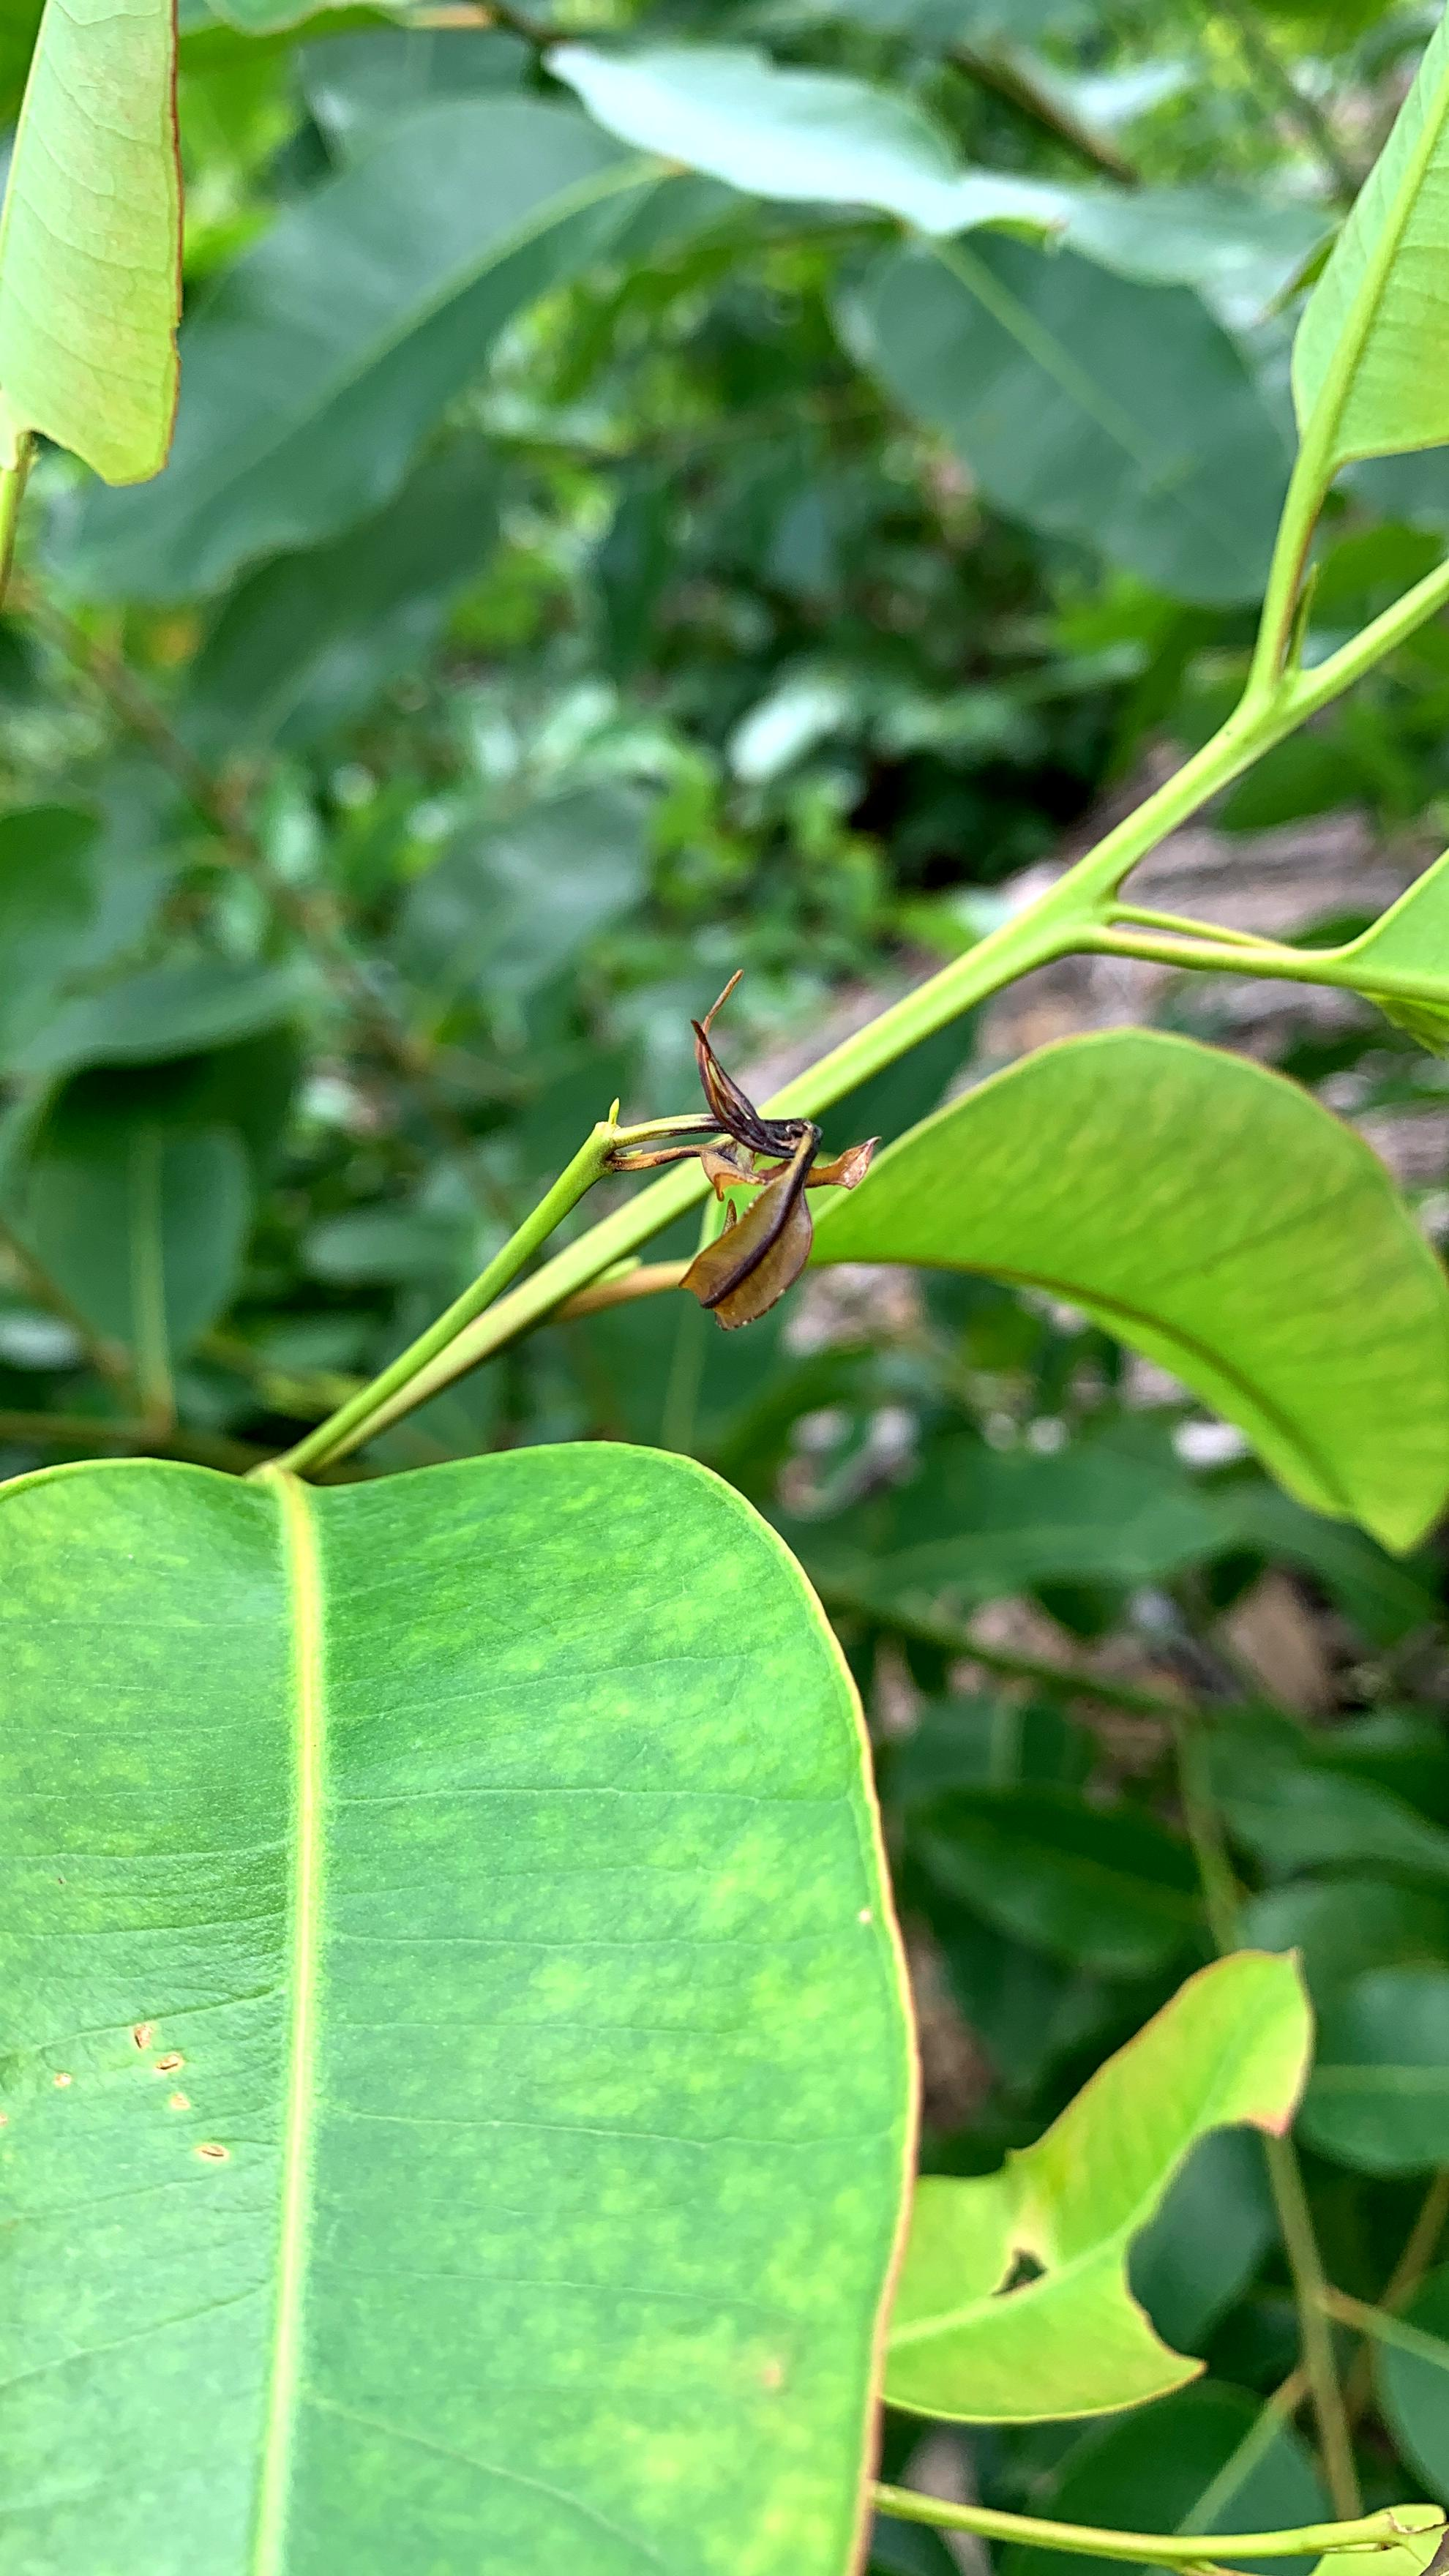Helopeltis-Withered Sprout: (640, 996, 879, 1343)
